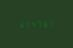five: (23, 20, 28, 28)
four: (30, 20, 35, 28)
seven: (48, 19, 53, 27), (36, 20, 41, 27)
six: (17, 20, 22, 28), (42, 19, 47, 27)
